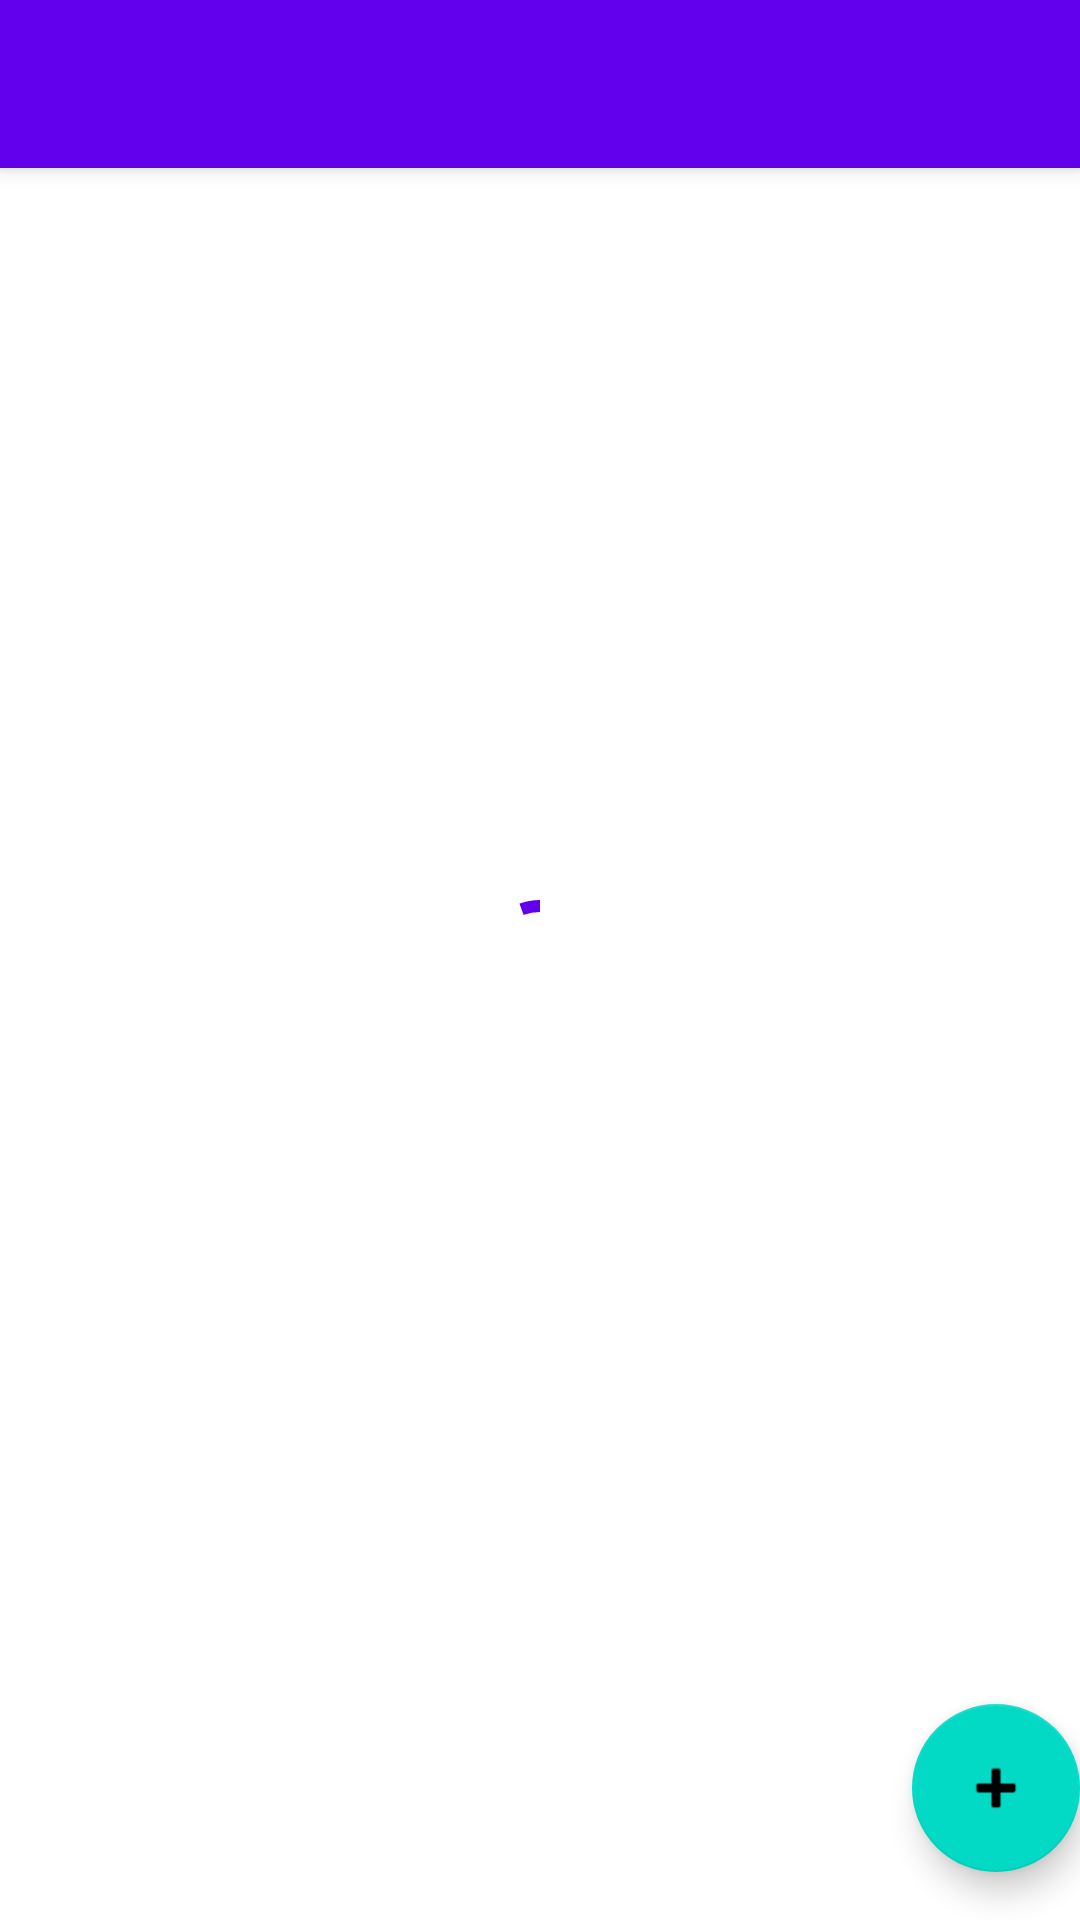

Locate icon controls on the screen. Image size 1080px x 1920px, boxes as region(x1, y1, x2, y2).
add: region(912, 1704, 1080, 1872)
